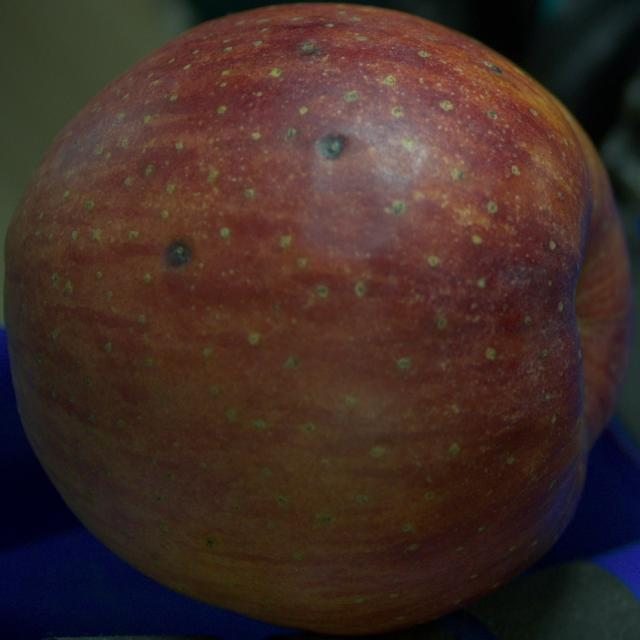apple: (4, 3, 632, 634)
pest: (164, 240, 192, 269), (316, 134, 346, 159), (301, 42, 320, 54), (484, 61, 502, 72), (206, 539, 214, 548)
